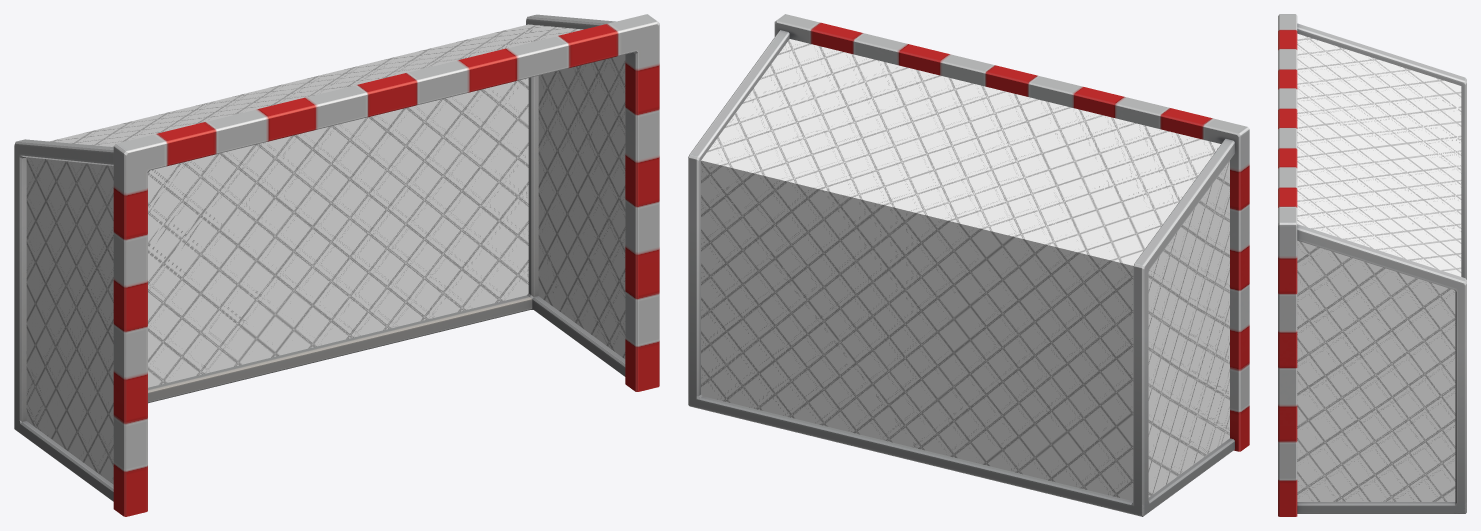
Rendered from football_gates_1_red.fbx.
3 renders of one model, left to right at view 1: azimuth 30°, elevation 25°; view 2: azimuth 150°, elevation 25°; view 3: azimuth 270°, elevation 25°, orthographic. The views are drawn at different scales.
Parts seen in each view (by area): view 1: goal_net, football_gates_1_red; view 2: goal_net, football_gates_1_red; view 3: goal_net, football_gates_1_red.
Part boxes in pixels (x1,y1,x2,y2): goal_net: [26, 24, 625, 484]; football_gates_1_red: [14, 14, 659, 516]; goal_net: [701, 39, 1229, 500]; football_gates_1_red: [688, 14, 1249, 516]; goal_net: [1297, 33, 1461, 501]; football_gates_1_red: [1278, 14, 1466, 516].
Bounding box in the file's own units: 327 × 213 × 124.
